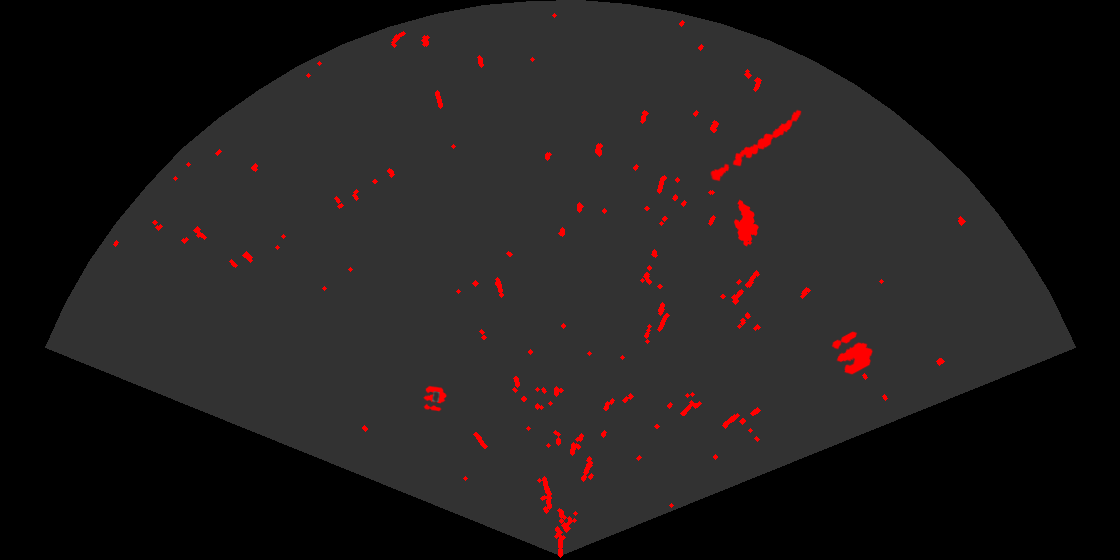AUV: (732, 198, 760, 248)
ball: (830, 330, 875, 376), (422, 384, 449, 413)
chain: (709, 108, 803, 183)
